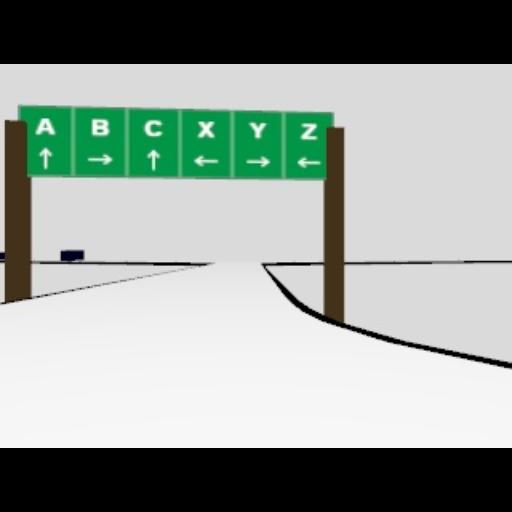A: (34, 117, 54, 135)
B: (91, 116, 109, 136)
C: (142, 118, 164, 136)
Left: (192, 154, 220, 166), (296, 156, 320, 168)
Right: (86, 154, 114, 164), (245, 156, 271, 166)
Straight: (39, 146, 53, 168), (146, 148, 160, 170)
X: (197, 120, 215, 138)
Y: (248, 121, 266, 139)
Z: (300, 121, 318, 139)
